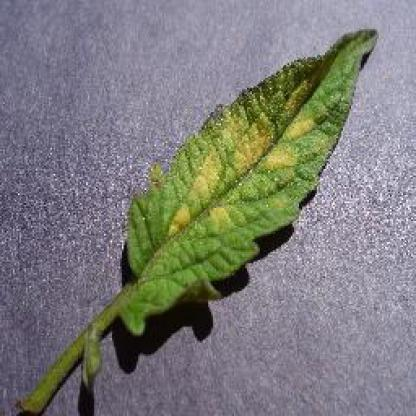bad leaf: (1, 8, 404, 414)
